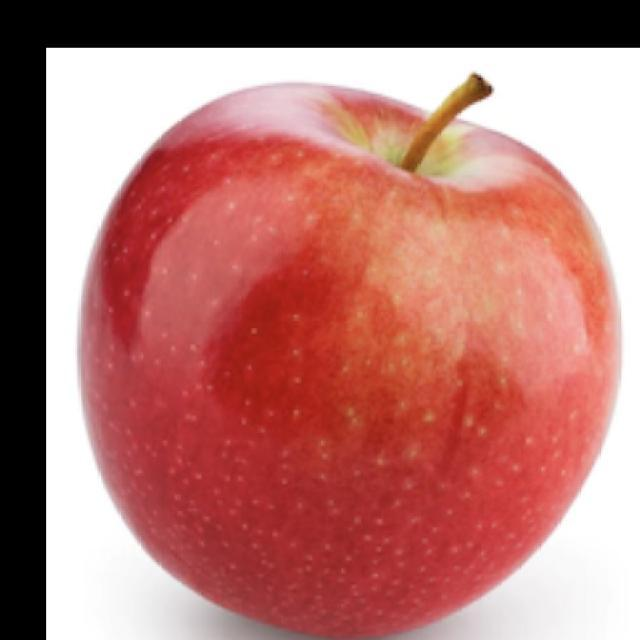Fresh Apple: (77, 68, 627, 640)
